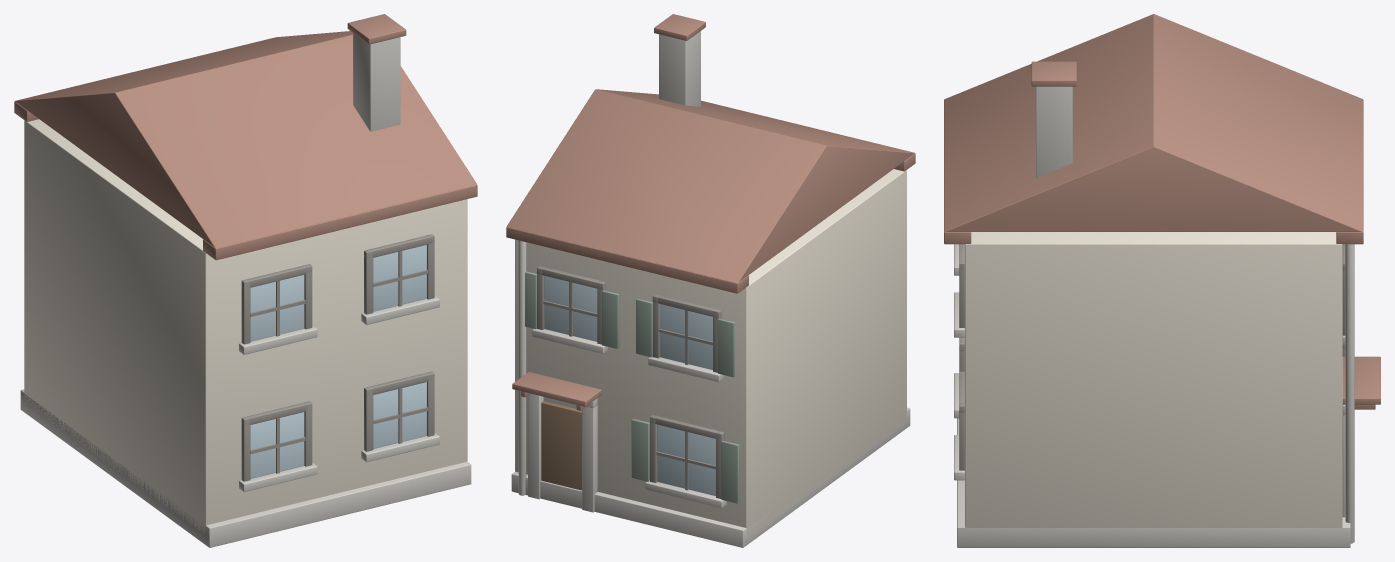
The model's file is th7_reihenhaus_modul.glb.
3 renders of one model, left to right at view 1: azimuth 30°, elevation 25°; view 2: azimuth 150°, elevation 25°; view 3: azimuth 270°, elevation 25°, orthographic. The views are drawn at different scales.
Visible parts, largest first — view 1: Cube.001, Satteldach, Cube, Cube.066, Cube.002, Cube.059, Cube.038, Cube.045, Cube.052, Cube.067, Cube.044, Cube.051 (+11 smaller); view 2: Cube.001, Satteldach, Cube, Cube.031, Cube.022, Cube.066, Cube.003, Cube.013, Cube.004, Cylinder, Cube.035, Cube.032 (+15 smaller); view 3: Cube.001, Satteldach, Cube, Cube.066, Cylinder, Cube.035, Cube.067.
Part boxes in pixels (x1=…): Cube.001: x1=24, y1=119, x2=467, y2=534; Satteldach: x1=15, y1=31, x2=476, y2=248; Cube: x1=20, y1=389, x2=471, y2=547; Cube.066: x1=353, y1=33, x2=400, y2=131; Cube.002: x1=203, y1=185, x2=477, y2=260; Cube.059: x1=250, y1=412, x2=304, y2=478; Cube.038: x1=373, y1=245, x2=426, y2=311; Cube.045: x1=373, y1=382, x2=426, y2=448; Cube.052: x1=250, y1=275, x2=304, y2=341; Cube.067: x1=347, y1=14, x2=406, y2=44; Cube.044: x1=361, y1=296, x2=439, y2=324; Cube.051: x1=361, y1=433, x2=439, y2=462; Cube.001: x1=515, y1=169, x2=906, y2=536; Satteldach: x1=506, y1=89, x2=914, y2=283; Cube: x1=511, y1=407, x2=910, y2=547; Cube.031: x1=541, y1=401, x2=581, y2=490; Cube.022: x1=657, y1=424, x2=715, y2=496; Cube.066: x1=659, y1=31, x2=700, y2=106; Cube.003: x1=506, y1=227, x2=748, y2=293; Cube.013: x1=544, y1=276, x2=597, y2=341; Cube.004: x1=660, y1=304, x2=712, y2=369; Cylinder: x1=518, y1=240, x2=526, y2=495; Cube.035: x1=512, y1=372, x2=601, y2=406; Cube.032: x1=582, y1=405, x2=597, y2=512; Cube.001: x1=965, y1=232, x2=1342, y2=527; Satteldach: x1=944, y1=14, x2=1362, y2=231; Cube: x1=957, y1=418, x2=1350, y2=547; Cube.066: x1=1035, y1=86, x2=1072, y2=177; Cylinder: x1=1345, y1=244, x2=1354, y2=543; Cube.035: x1=1342, y1=356, x2=1380, y2=404; Cube.067: x1=1031, y1=61, x2=1076, y2=86.
Bounding box in the file's own units: 6 × 9.53 × 8.33.
